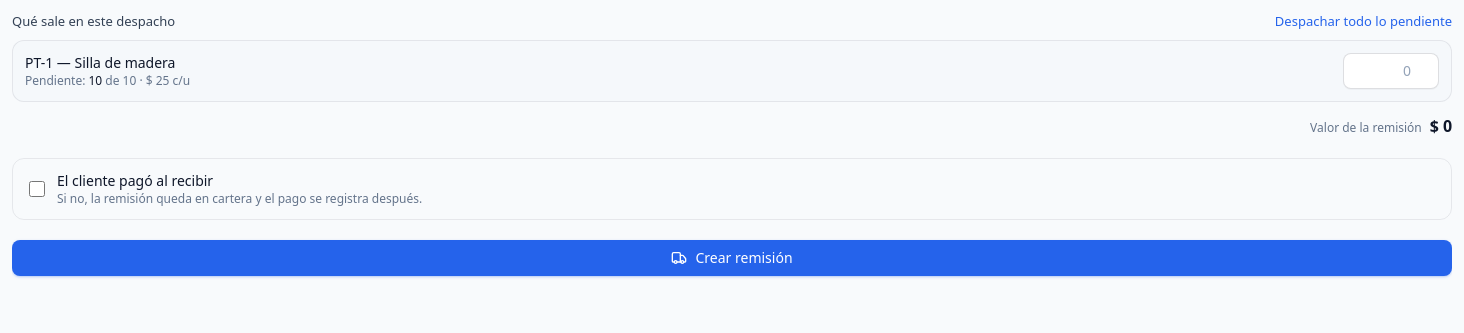
Scenario: RemissionForm › rejects a quantity that exceeds what is pending
Type "11" into the number field named "Cantidad a entregar de Silla de madera" at (1391, 70), box [1343,52,1439,88]
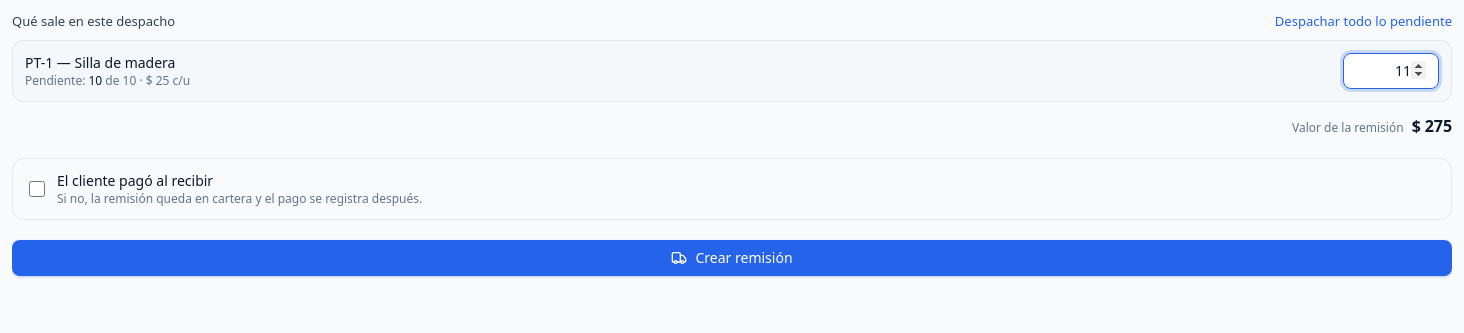
Click the button "Crear remisión" at (732, 258), box [12,240,1452,276]
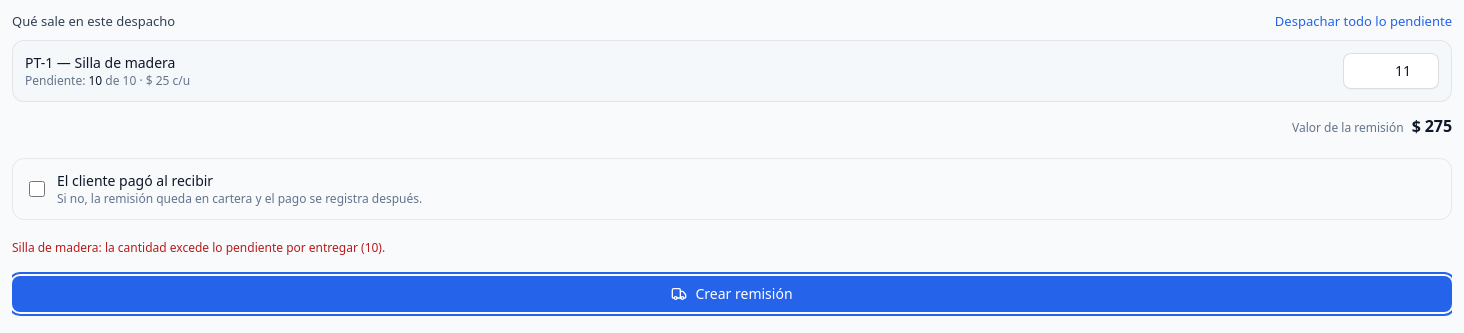
Now the text "Silla de madera: la cantidad excede lo pendiente por entregar (10)." is shown, box [12,238,385,256]
